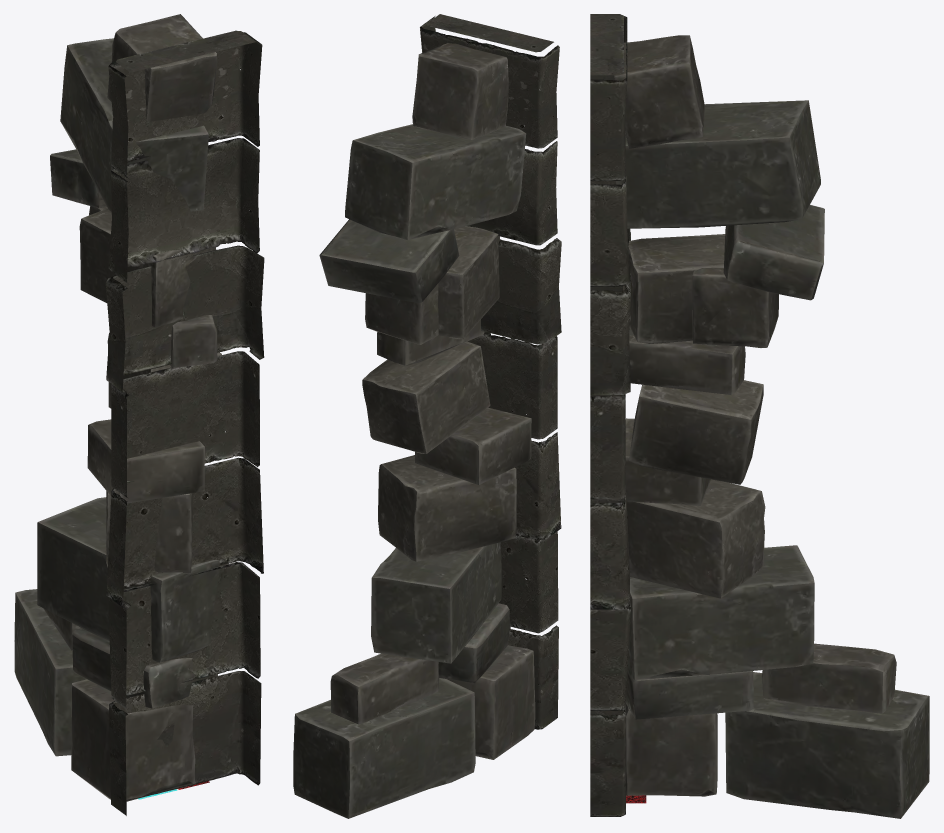
3 renders of one model, left to right at view 1: azimuth 30°, elevation 25°; view 2: azimuth 150°, elevation 25°; view 3: azimuth 270°, elevation 25°, orthographic. The views are drawn at different scales.
Visible parts, largest first — view 1: SM_Greathall_Wall_8x10_Broken_05_LOD0; view 2: SM_Greathall_Wall_8x10_Broken_05_LOD0; view 3: SM_Greathall_Wall_8x10_Broken_05_LOD0.
Boxes of the visible parts, x1,y1,x2,y2 form: SM_Greathall_Wall_8x10_Broken_05_LOD0: (14,14,264,815); SM_Greathall_Wall_8x10_Broken_05_LOD0: (293,14,561,818); SM_Greathall_Wall_8x10_Broken_05_LOD0: (590,14,929,818).
Size of the model in its own units: 2.12 by 10.01 by 4.14.
3 materials, 3 textured.
